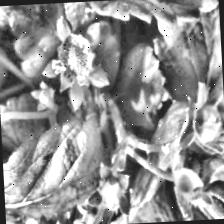Blossom Blight: (48, 32, 97, 86)
